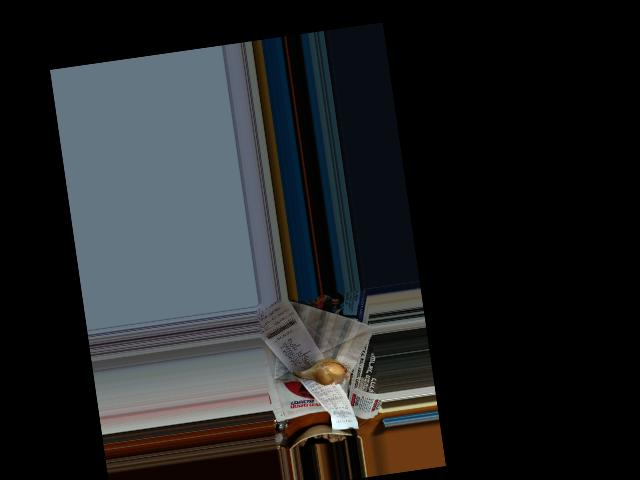onion: (301, 355, 347, 389)
